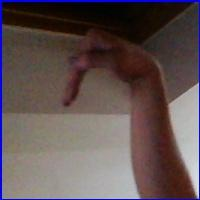del: (61, 24, 154, 114)
